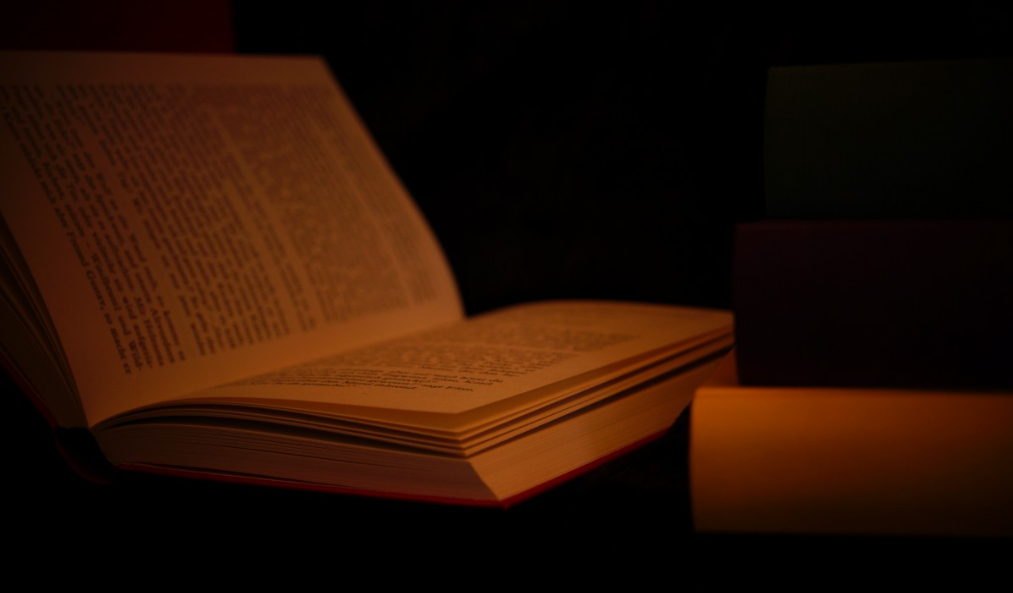book: (4, 48, 732, 502)
